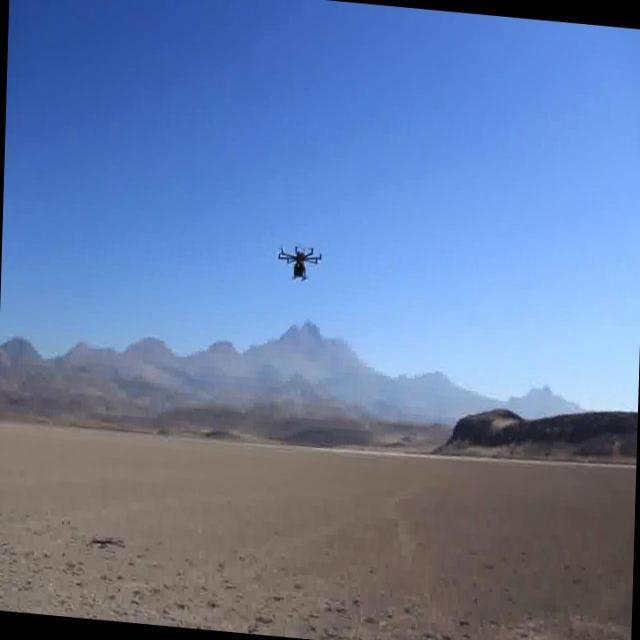drone: (274, 240, 328, 286)
